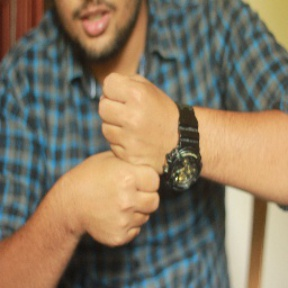G: (82, 68, 172, 246)
